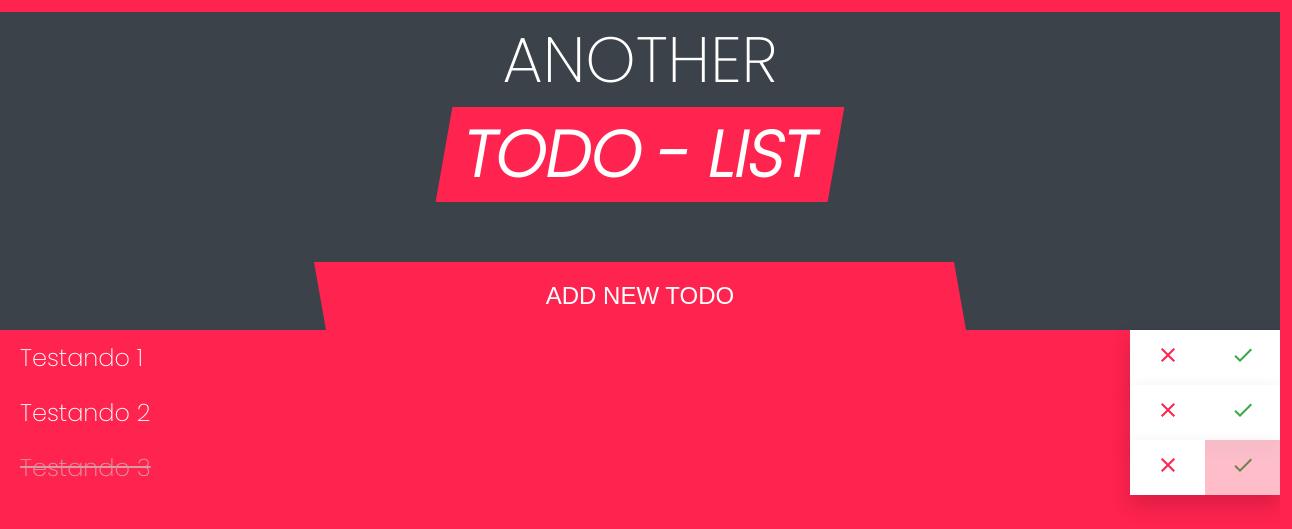
it: Home actions success › It should remove the selected todo
expect the text "Testando 1" is shown: met, box top-left (20, 341), bottom-right (143, 374)
Click the 1st button with test id "remove-todo" at (1168, 358), box top-left (1130, 330), bottom-right (1205, 385)
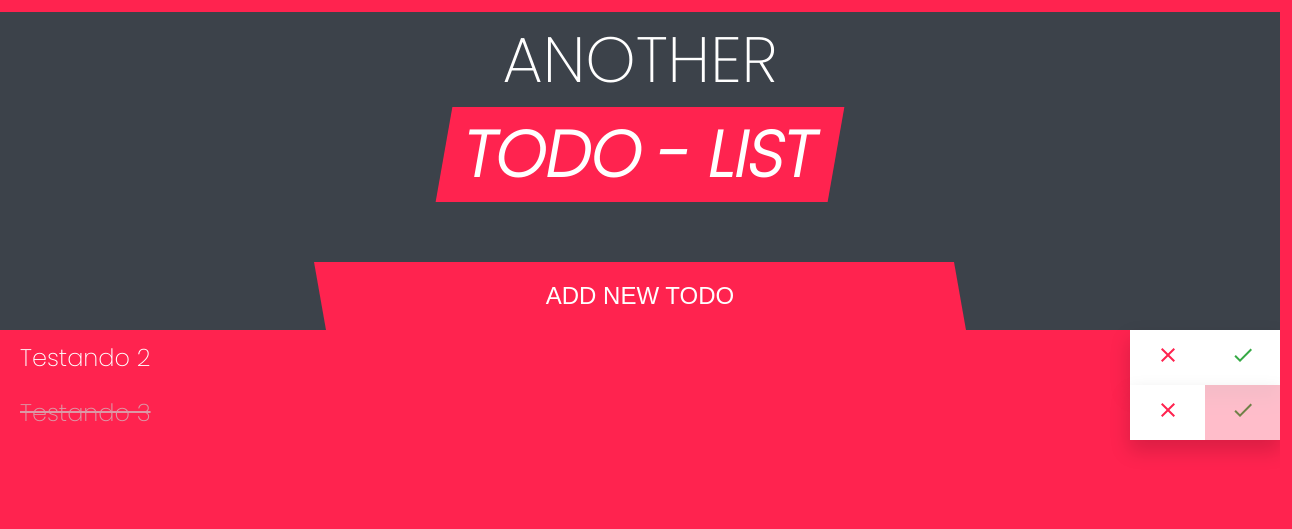
expect the text "Testando 1" is gone: met
